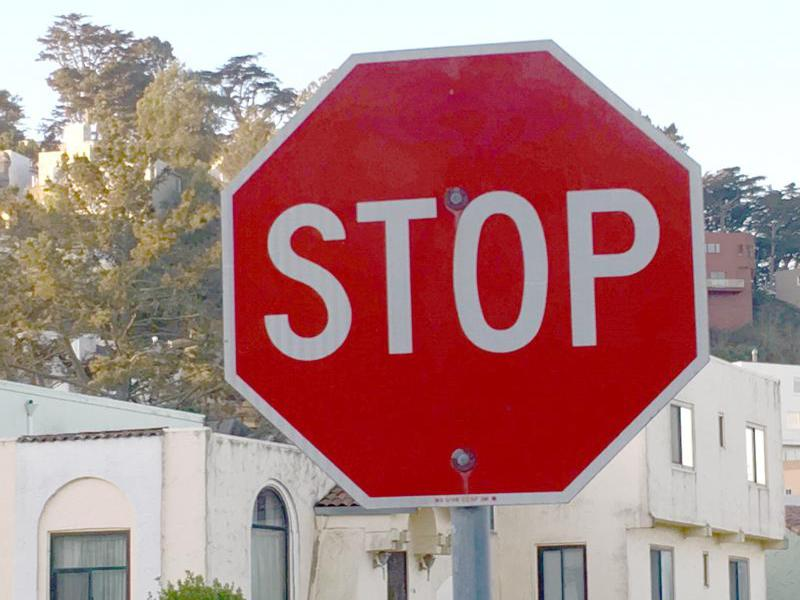stop: (226, 45, 718, 515)
